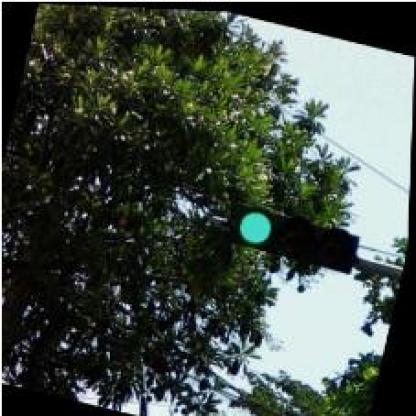green: (229, 198, 365, 271)
